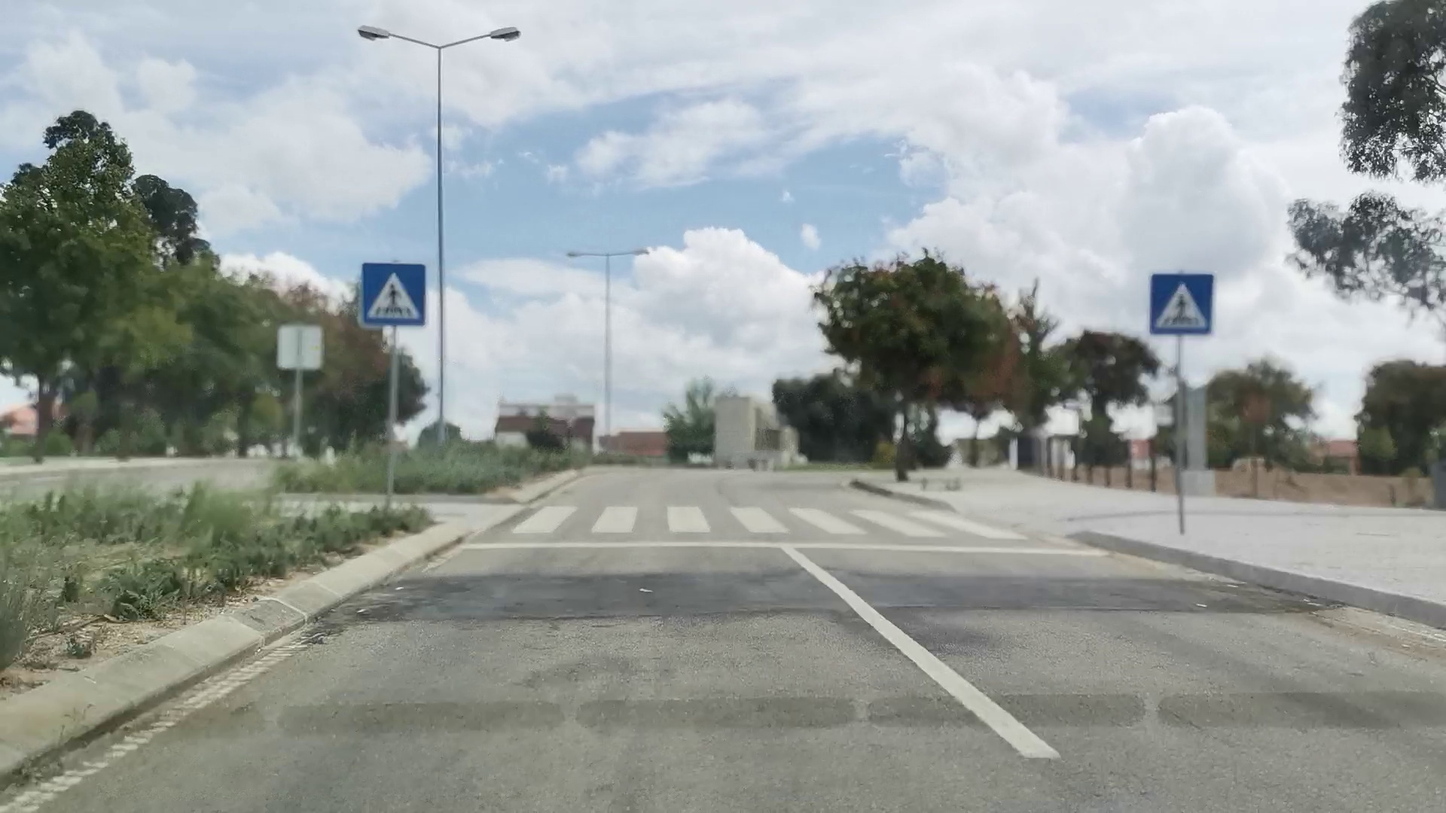Stairs: (512, 499, 1026, 538)
